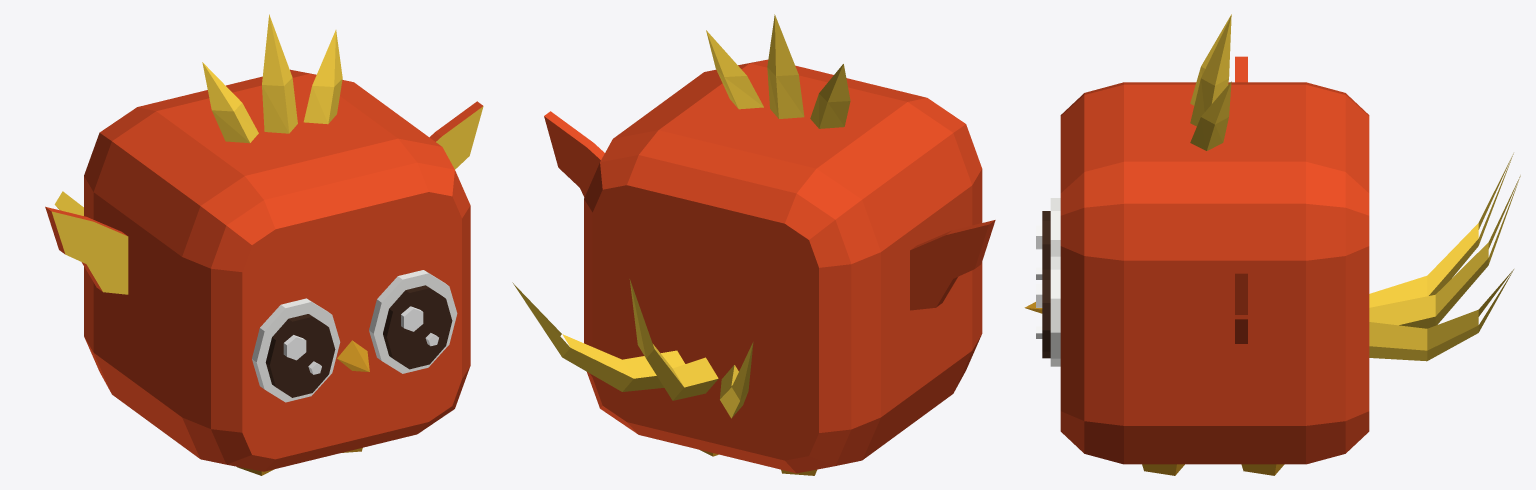
File: phoenix-pet-v2.glb
The picture shows the model from 3 angles, left to right: view 1: azimuth 30°, elevation 25°; view 2: azimuth 150°, elevation 25°; view 3: azimuth 270°, elevation 25°; orthographic projection. The views are drawn at different scales.
Visible parts, largest first — view 1: Body, Glow, Pupil, EyeWhite, EyeShine, Gold; view 2: Body, Glow; view 3: Body, Glow, EyeWhite, Pupil, Gold, EyeShine.
Boxes of the visible parts, x1,y1,x2,y2 form: Body: (45, 69, 482, 471); Glow: (51, 14, 483, 294); Pupil: (265, 285, 452, 397); EyeWhite: (252, 270, 457, 402); EyeShine: (283, 306, 438, 374); Gold: (237, 340, 369, 475); Body: (544, 59, 995, 473); Glow: (512, 14, 850, 418); Body: (1060, 56, 1369, 464); Glow: (1190, 14, 1520, 361); EyeWhite: (1050, 198, 1060, 366); Pupil: (1042, 211, 1050, 358); Gold: (1024, 302, 1284, 475); EyeShine: (1036, 225, 1042, 338).
Bounding box in the file's own units: 3.1 × 2.87 × 3.
